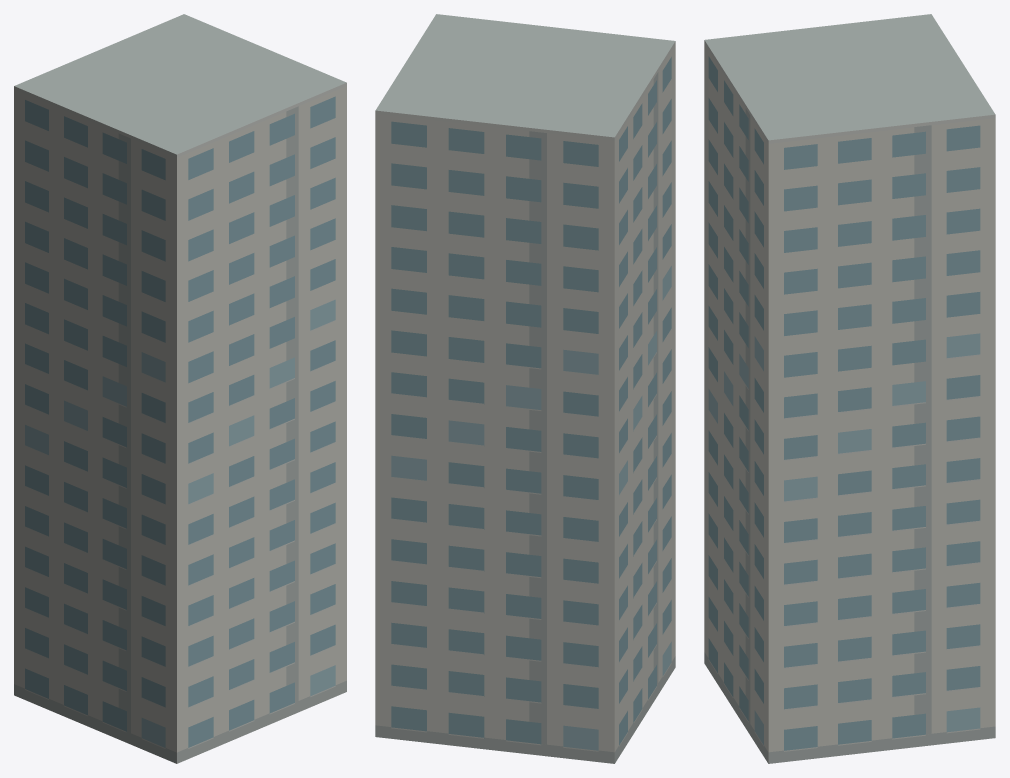
File: residential-b923f01c-59f7-4877-a05c-f0e223340e1b.glb
3 renders of one model, left to right at view 1: azimuth 30°, elevation 25°; view 2: azimuth 150°, elevation 25°; view 3: azimuth 270°, elevation 25°, orthographic. The views are drawn at different scales.
Parts seen in each view (by area): view 1: residential-b923f01c-59f7-4877-a05c-f0e223340e1b.tmp; view 2: residential-b923f01c-59f7-4877-a05c-f0e223340e1b.tmp; view 3: residential-b923f01c-59f7-4877-a05c-f0e223340e1b.tmp.
Boxes of the visible parts, x1,y1,x2,y2 form: residential-b923f01c-59f7-4877-a05c-f0e223340e1b.tmp: (14, 14, 346, 763); residential-b923f01c-59f7-4877-a05c-f0e223340e1b.tmp: (375, 14, 675, 763); residential-b923f01c-59f7-4877-a05c-f0e223340e1b.tmp: (704, 14, 995, 763).
Bounding box in the file's own units: 20.01 × 46 × 19.48.
